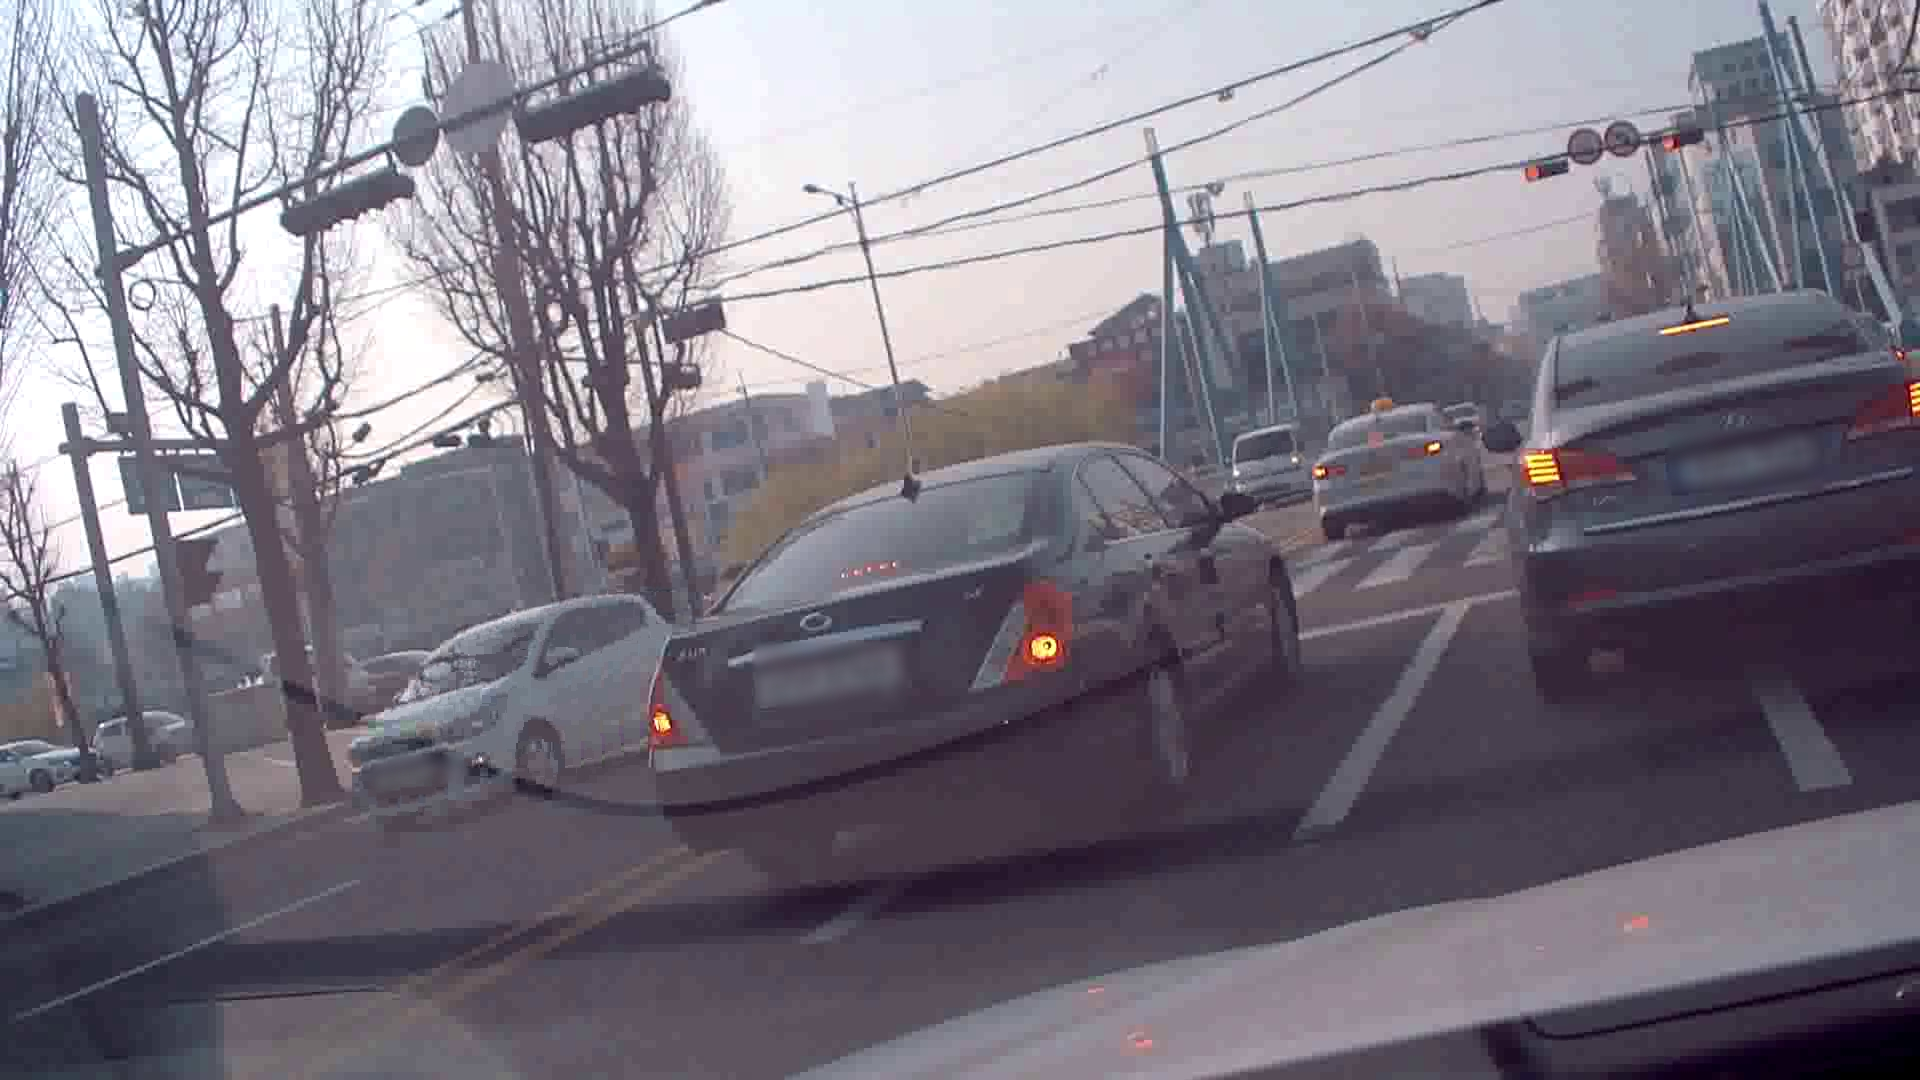trafficLight: (1519, 157, 1567, 182), (1658, 129, 1706, 152)
trafficSignCircle: (1604, 120, 1643, 160), (1569, 127, 1600, 166)
